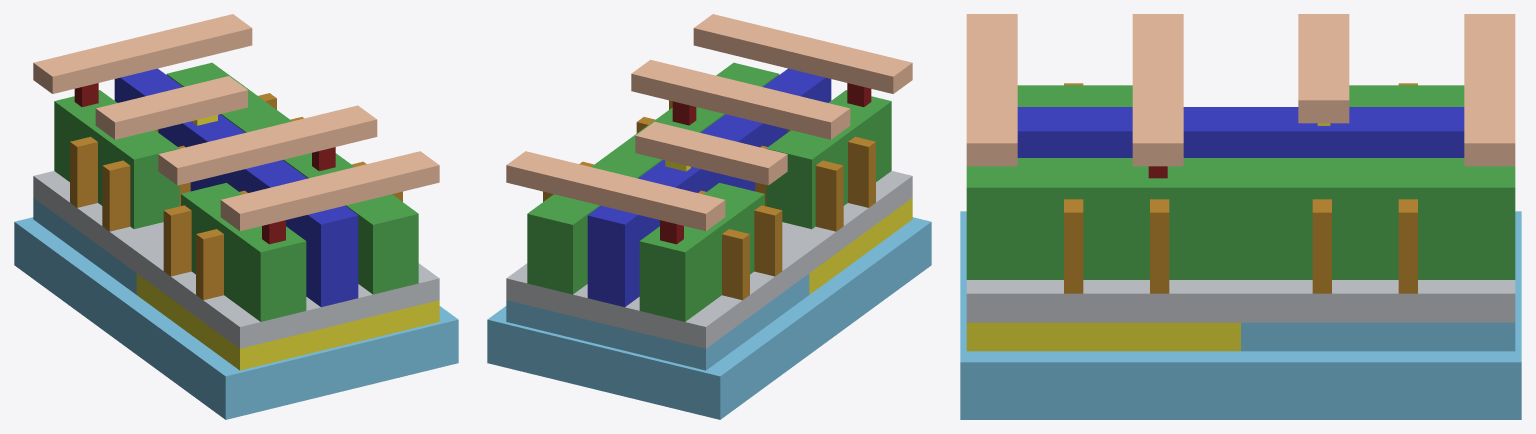
The model's file is show_fin.obj.
3 views of the same model, side by side, from view 1: azimuth 30°, elevation 25°; view 2: azimuth 150°, elevation 25°; view 3: azimuth 270°, elevation 25° (orthographic). The views are drawn at different scales.
Visible parts, largest first — view 1: pwell, fox, po, md_vdd, md_out, m0_out, m0_vdd, m0_gnd, md_gnd, nwell, m0_in, pwell_u (+7 smaller); view 2: pwell, fox, po, md_gnd, md_out, m0_gnd, m0_out, m0_vdd, md_vdd, pwell_u, m0_in, nwell (+7 smaller); view 3: md_out, pwell, fox, po, pwell_u, nwell, m0_gnd, m0_out, m0_vdd, m0_in, md_gnd, md_vdd (+4 smaller).
Part boxes in pixels (box(x1,y1,x2,y2)): pwell: box(14, 217, 458, 419); fox: box(33, 171, 439, 348); po: box(114, 68, 358, 307); md_vdd: box(181, 183, 306, 321); md_out: box(166, 62, 418, 294); m0_out: box(158, 105, 377, 185); m0_vdd: box(220, 151, 439, 231); m0_gnd: box(33, 14, 252, 93); md_gnd: box(54, 90, 179, 229); nwell: box(136, 273, 439, 370); m0_in: box(95, 76, 247, 139); pwell_u: box(33, 198, 136, 294); pwell: box(487, 217, 931, 419); fox: box(506, 171, 912, 348); po: box(587, 68, 831, 307); md_gnd: box(639, 183, 764, 321); md_out: box(527, 62, 779, 294); m0_gnd: box(506, 151, 725, 231); m0_out: box(631, 59, 850, 139); m0_vdd: box(693, 14, 912, 93); md_vdd: box(766, 90, 891, 229); pwell_u: box(506, 273, 809, 370); m0_in: box(635, 121, 787, 185); nwell: box(809, 198, 912, 294); md_out: box(966, 158, 1515, 279); pwell: box(960, 211, 1521, 419); fox: box(966, 280, 1515, 322); po: box(1017, 107, 1464, 157); pwell_u: box(1241, 322, 1515, 351); nwell: box(966, 322, 1240, 351); m0_gnd: box(1464, 14, 1515, 166); m0_out: box(1132, 14, 1183, 166); m0_vdd: box(966, 14, 1017, 166); m0_in: box(1298, 14, 1349, 123); md_gnd: box(1349, 85, 1464, 106); md_vdd: box(1017, 85, 1132, 106).
Size of the model in its own units: 112 by 92 by 176.
